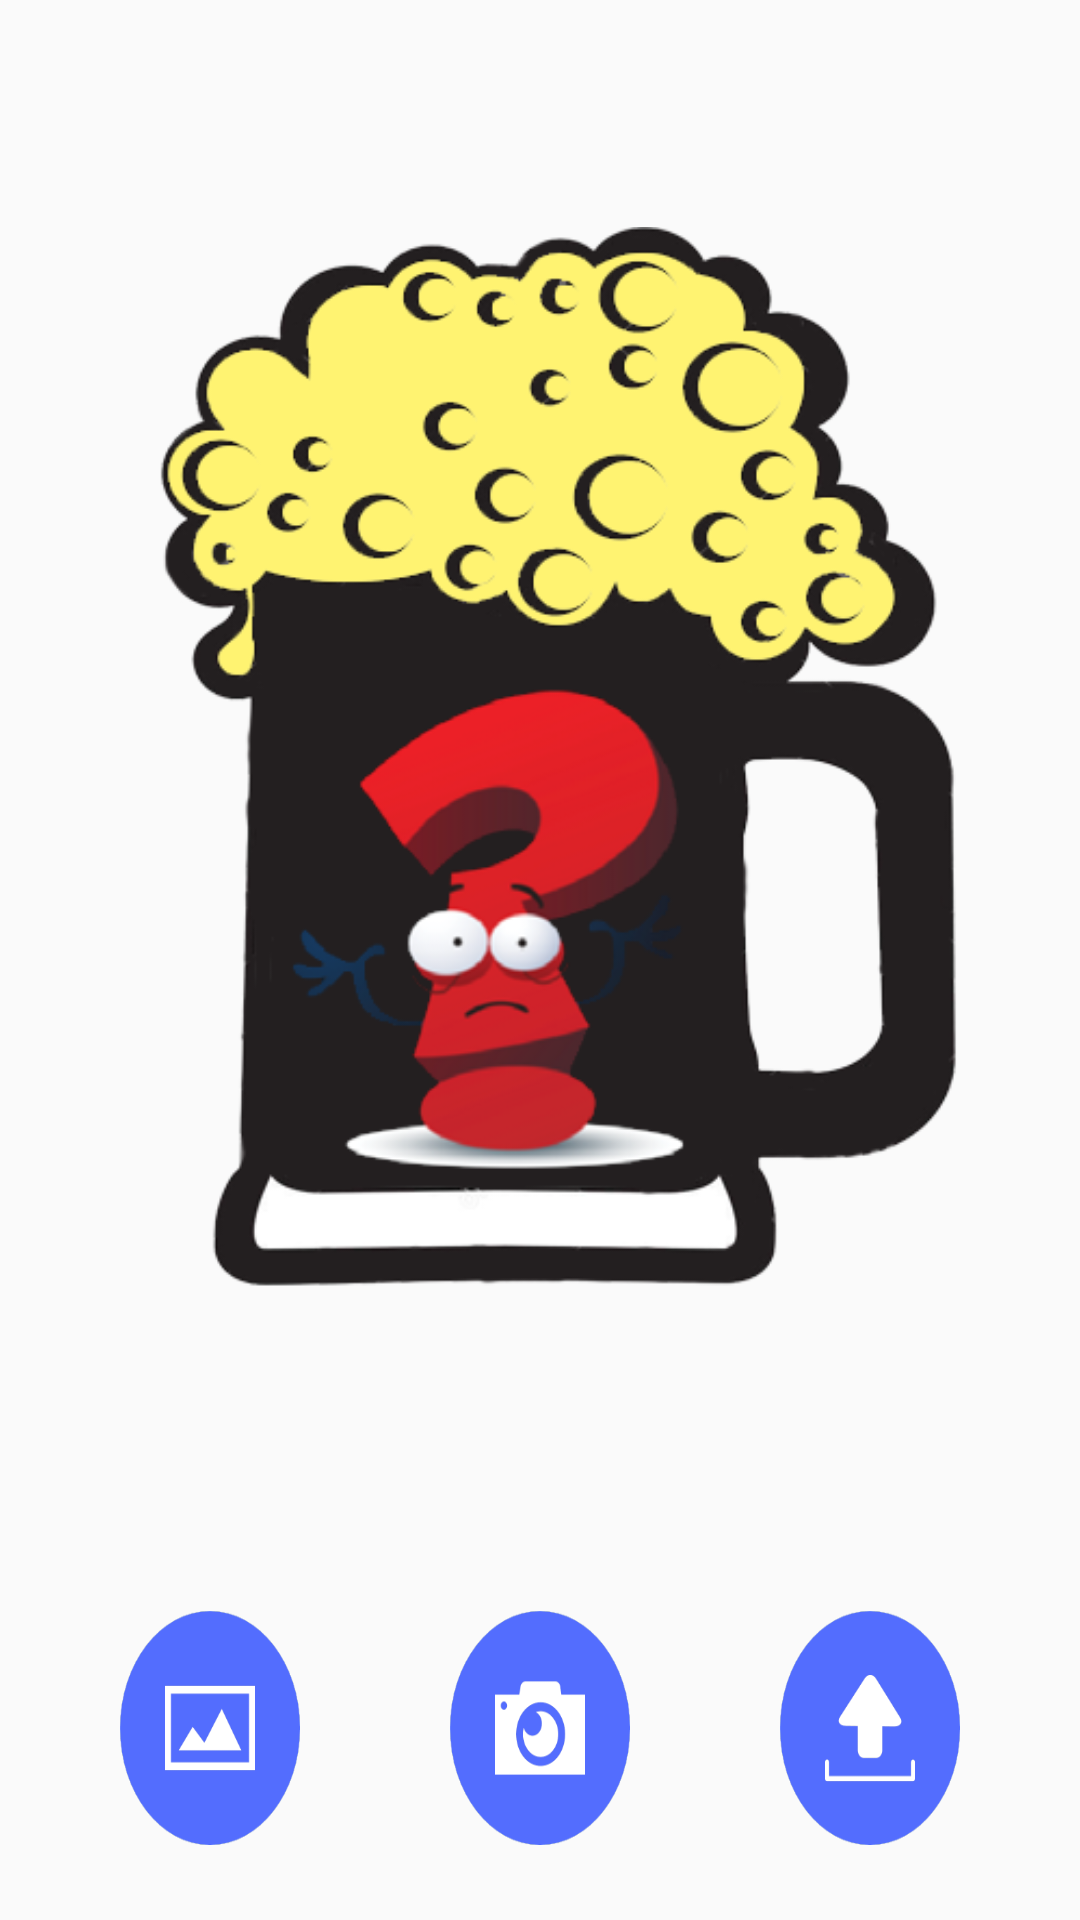

Where to tap for icons on this 1080*1920 app screen, as [x,y]:
camera: [540,1728]
gallery: [210,1728]
upload: [870,1728]
